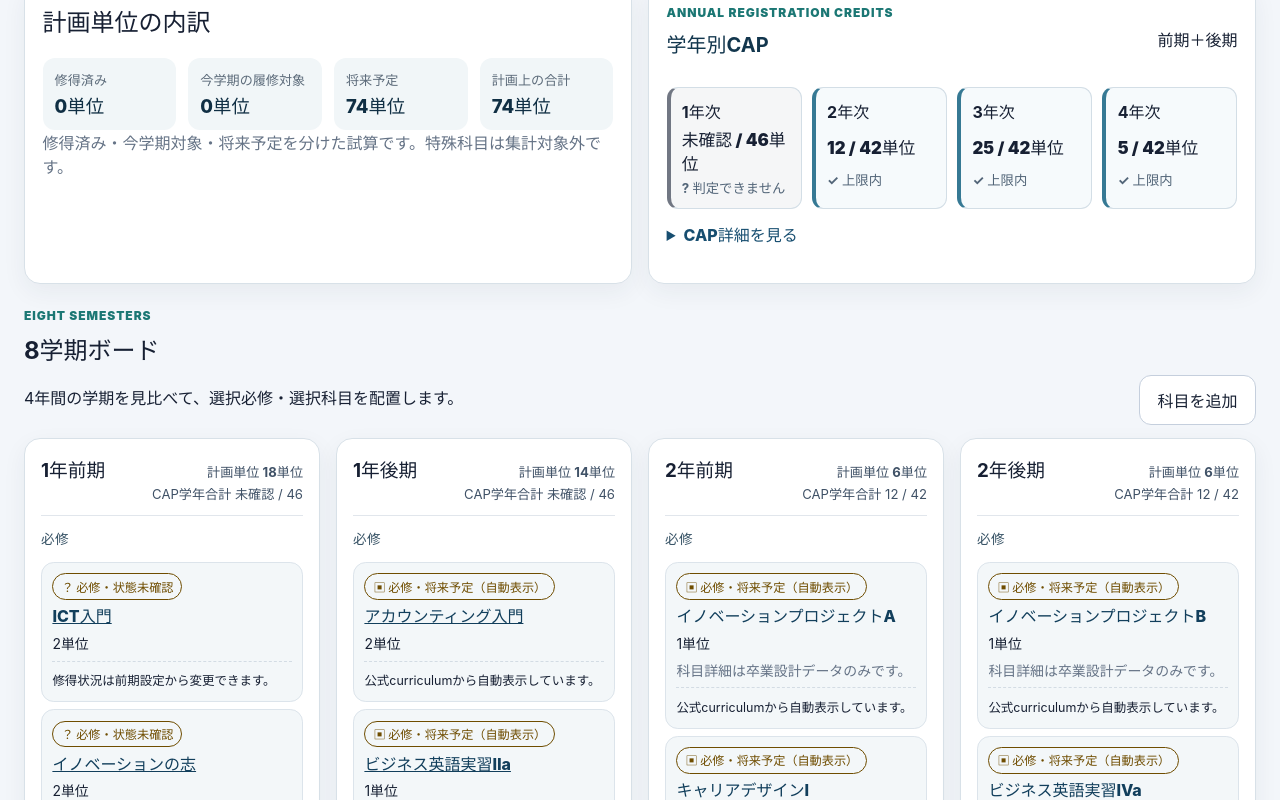
Test: Phase 11C graduation planning UI › 検索結果がない場合は明示的な空状態を表示する
The width and height of the screenshot is (1280, 800).
(page scrolled)
Click the button "科目を追加": [1197, 400] box [1139, 376, 1256, 426]
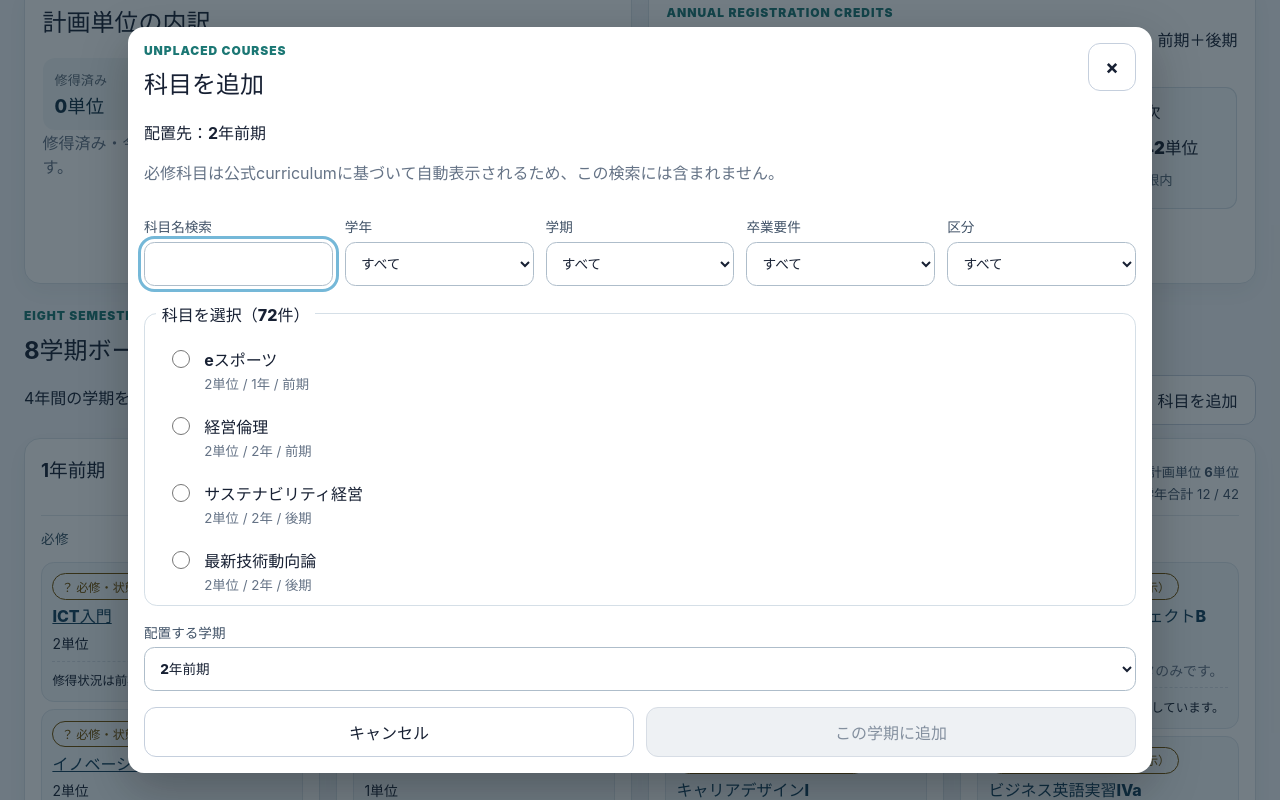
In the search field labelled "科目名検索": [238, 264] box [144, 242, 333, 286], type "該当しない科目名"
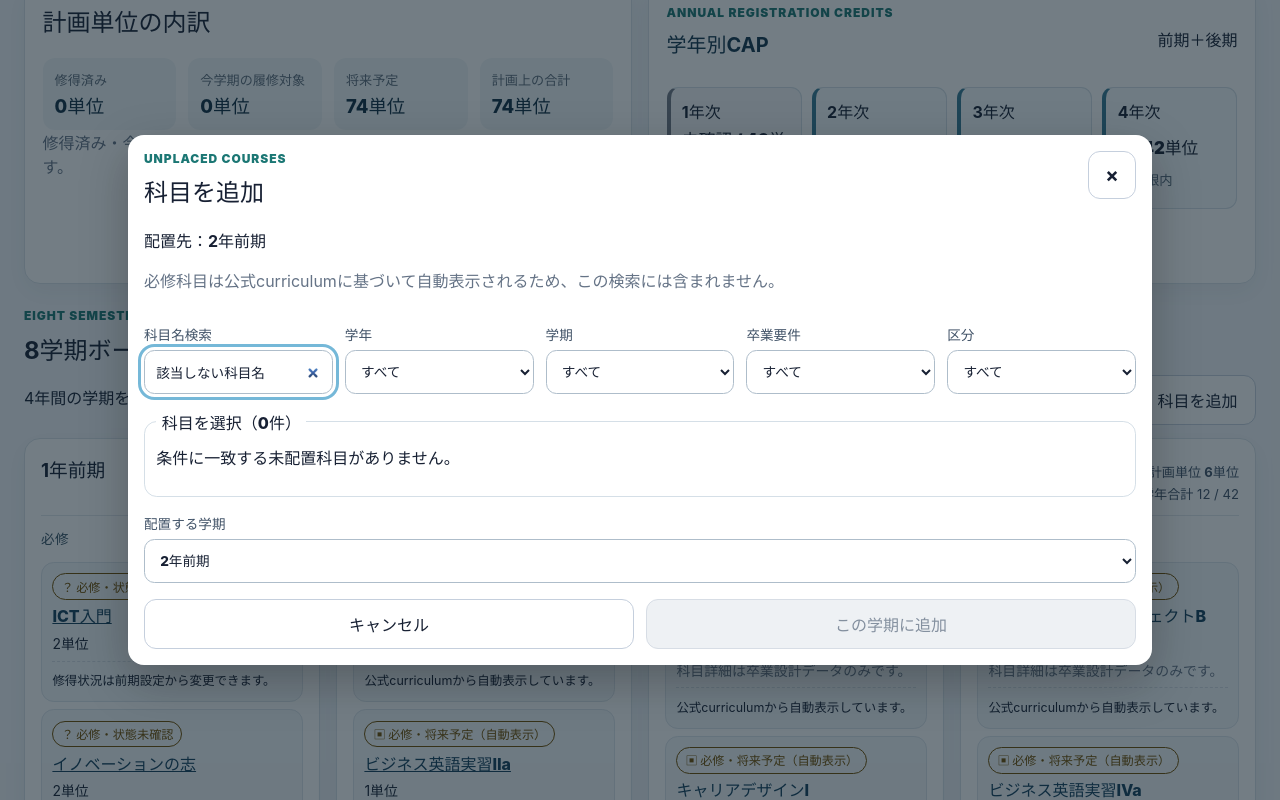
Check: the text "条件に一致する未配置科目がありません。" is shown, box [156, 448, 460, 468]
